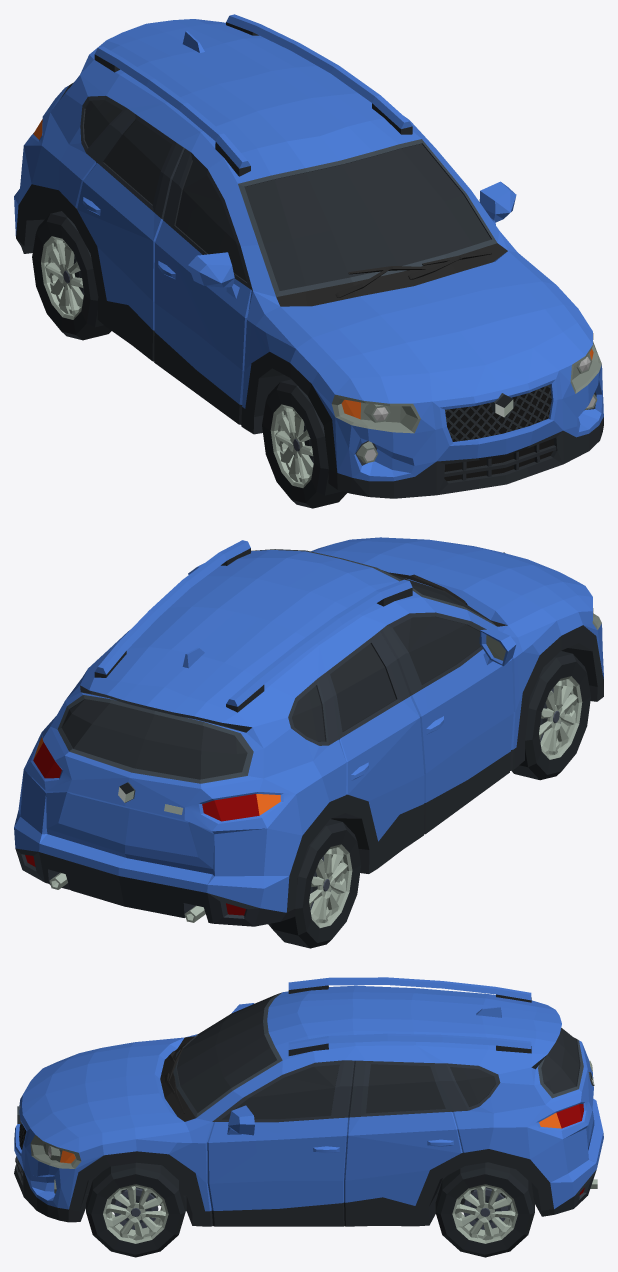
The model's file is SUV_LightBlue.fbx.
3 renders of one model, top to bottom at view 1: azimuth 30°, elevation 25°; view 2: azimuth 150°, elevation 25°; view 3: azimuth 270°, elevation 25°, orthographic. The views are drawn at different scales.
Visible parts, largest first — view 1: SM_Veh_Car_Medium_01, SM_Veh_Car_Medium_Wheel_fr, SM_Veh_Car_Medium_Wheel_rr; view 2: SM_Veh_Car_Medium_01, SM_Veh_Car_Medium_Wheel_rr, SM_Veh_Car_Medium_Wheel_fr; view 3: SM_Veh_Car_Medium_01, SM_Veh_Car_Medium_Wheel_fl, SM_Veh_Car_Medium_Wheel_rl.
Boxes of the visible parts, x1=… form: SM_Veh_Car_Medium_01: x1=14, y1=14, x2=603, y2=498; SM_Veh_Car_Medium_Wheel_fr: x1=262, y1=379, x2=346, y2=508; SM_Veh_Car_Medium_Wheel_rr: x1=32, y1=211, x2=111, y2=340; SM_Veh_Car_Medium_01: x1=14, y1=537, x2=603, y2=926; SM_Veh_Car_Medium_Wheel_rr: x1=268, y1=819, x2=361, y2=948; SM_Veh_Car_Medium_Wheel_fr: x1=511, y1=651, x2=590, y2=780; SM_Veh_Car_Medium_01: x1=14, y1=977, x2=603, y2=1226; SM_Veh_Car_Medium_Wheel_fl: x1=86, y1=1162, x2=185, y2=1257; SM_Veh_Car_Medium_Wheel_rl: x1=435, y1=1162, x2=534, y2=1257.
Bounding box in the file's own units: 2.48 × 1.98 × 5.22.
